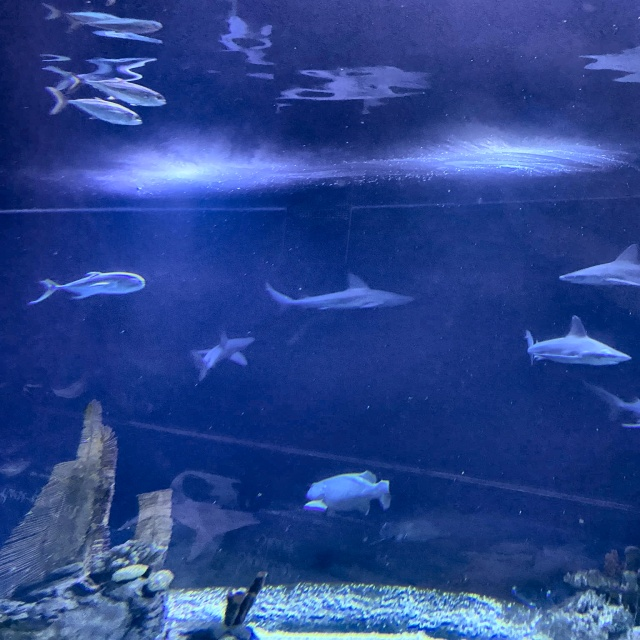fish: (302, 471, 391, 517), (48, 87, 142, 126), (32, 272, 146, 303), (64, 74, 166, 108)
shark: (266, 274, 410, 311), (525, 317, 630, 367), (560, 242, 639, 289), (193, 332, 251, 379), (586, 381, 639, 429)
